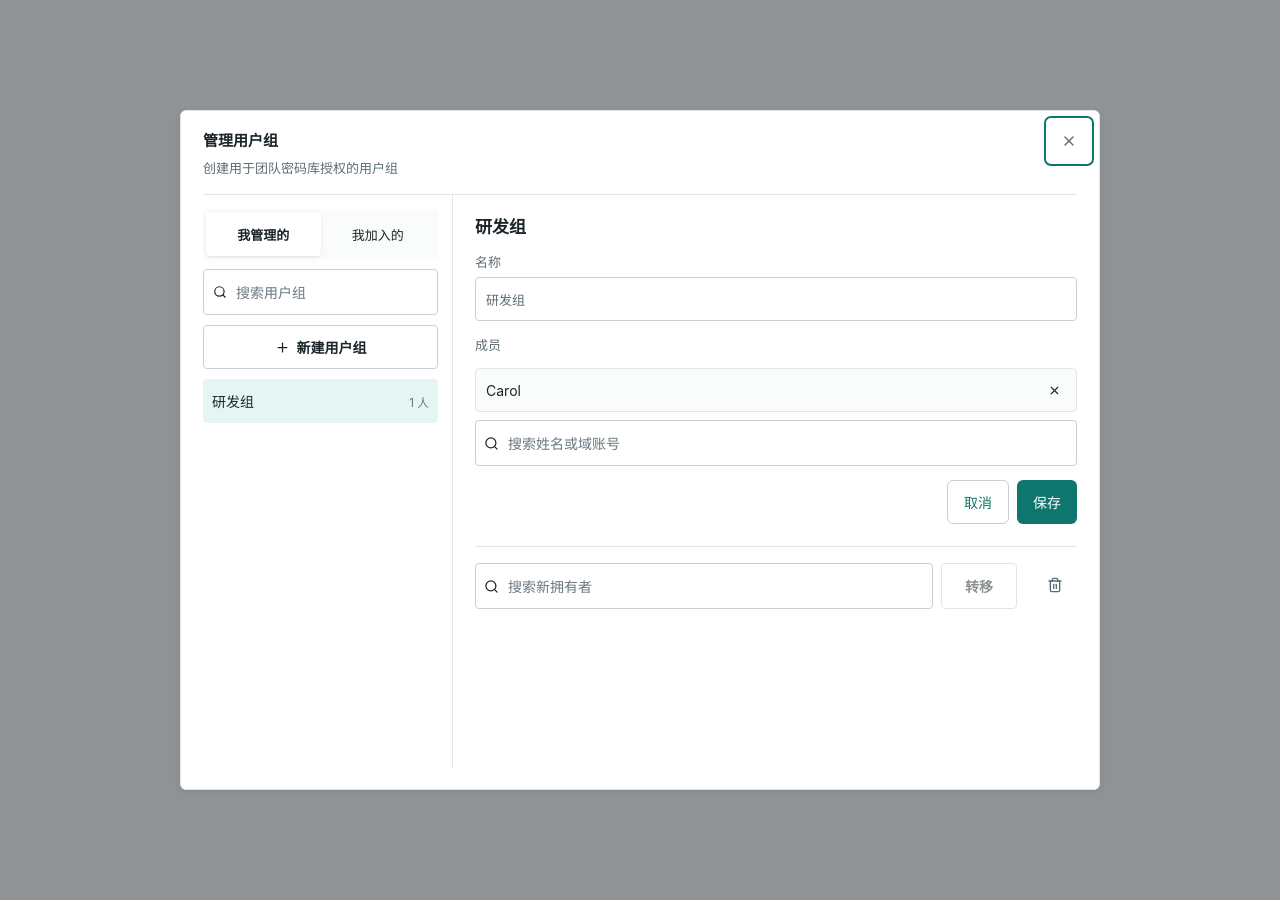
GroupsDialog › restores an edit draft and returns from create to the prior group
Replace the text in the field labelled "名称" with "未保存名称" at (776, 299), box x1=475 y1=277 x2=1077 y2=321
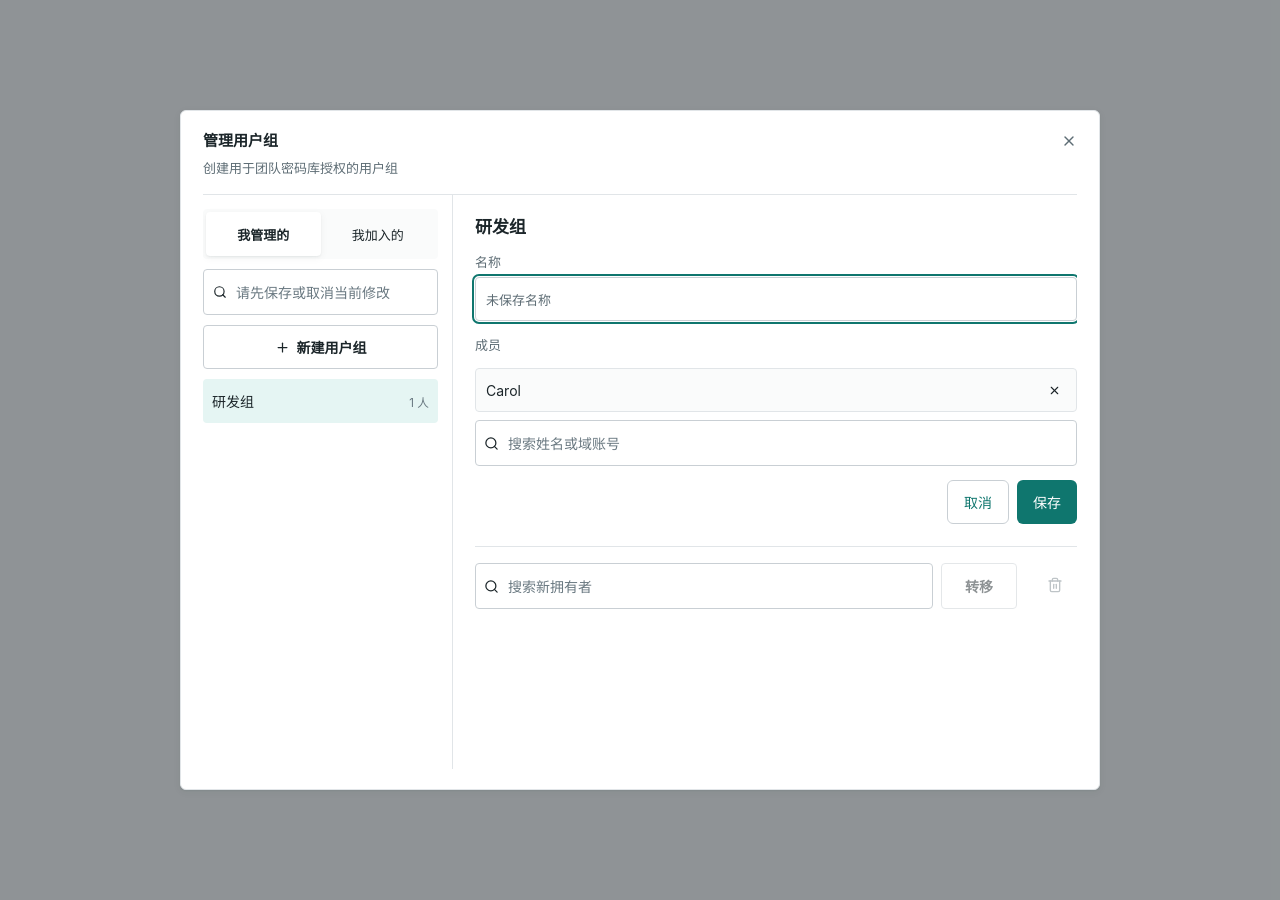
Click the button "取消" at (978, 502), box x1=947 y1=480 x2=1009 y2=524
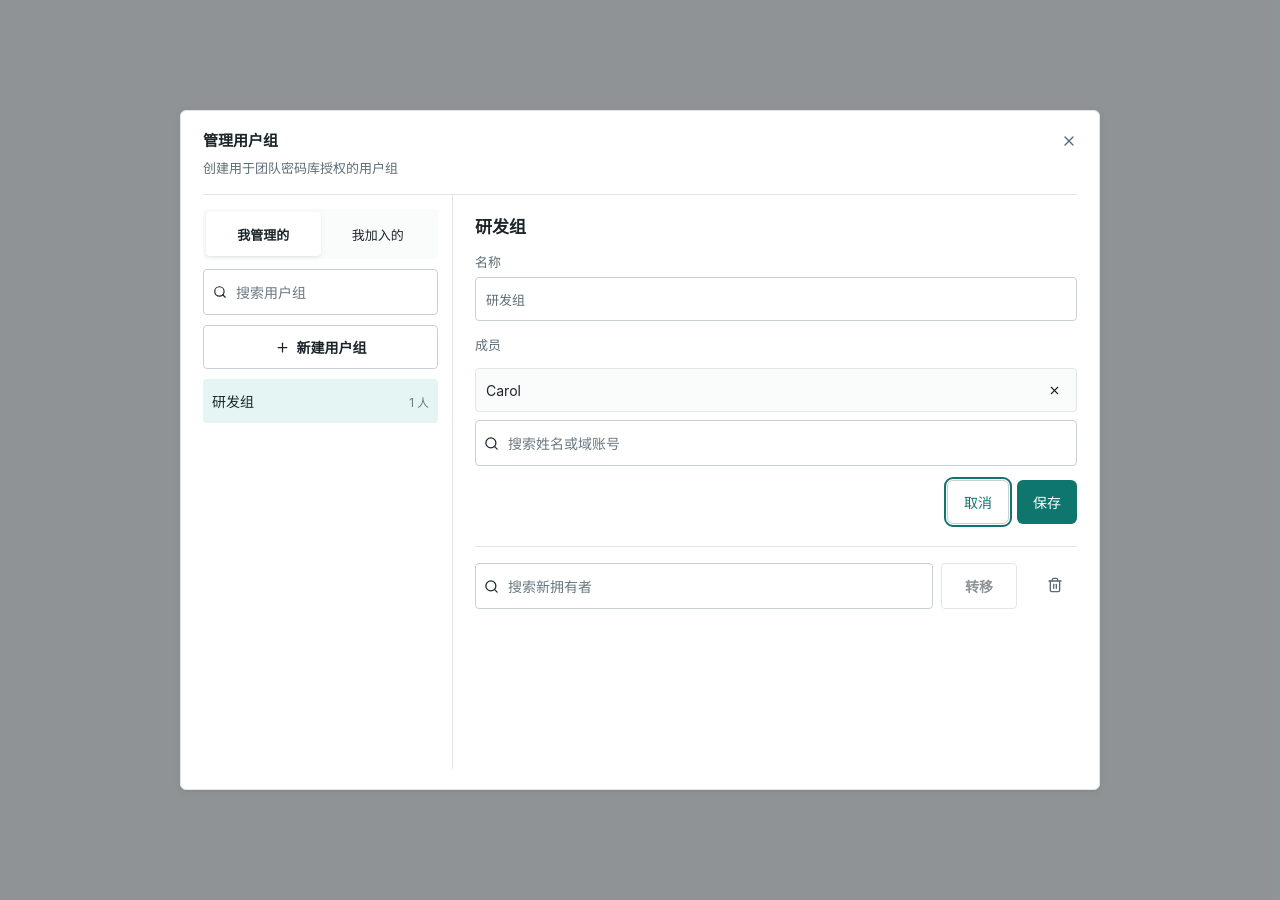
Now the field labelled "名称" holds "研发组", box x1=475 y1=277 x2=1077 y2=321
Click the button "新建用户组" at (320, 347), box x1=203 y1=325 x2=438 y2=369
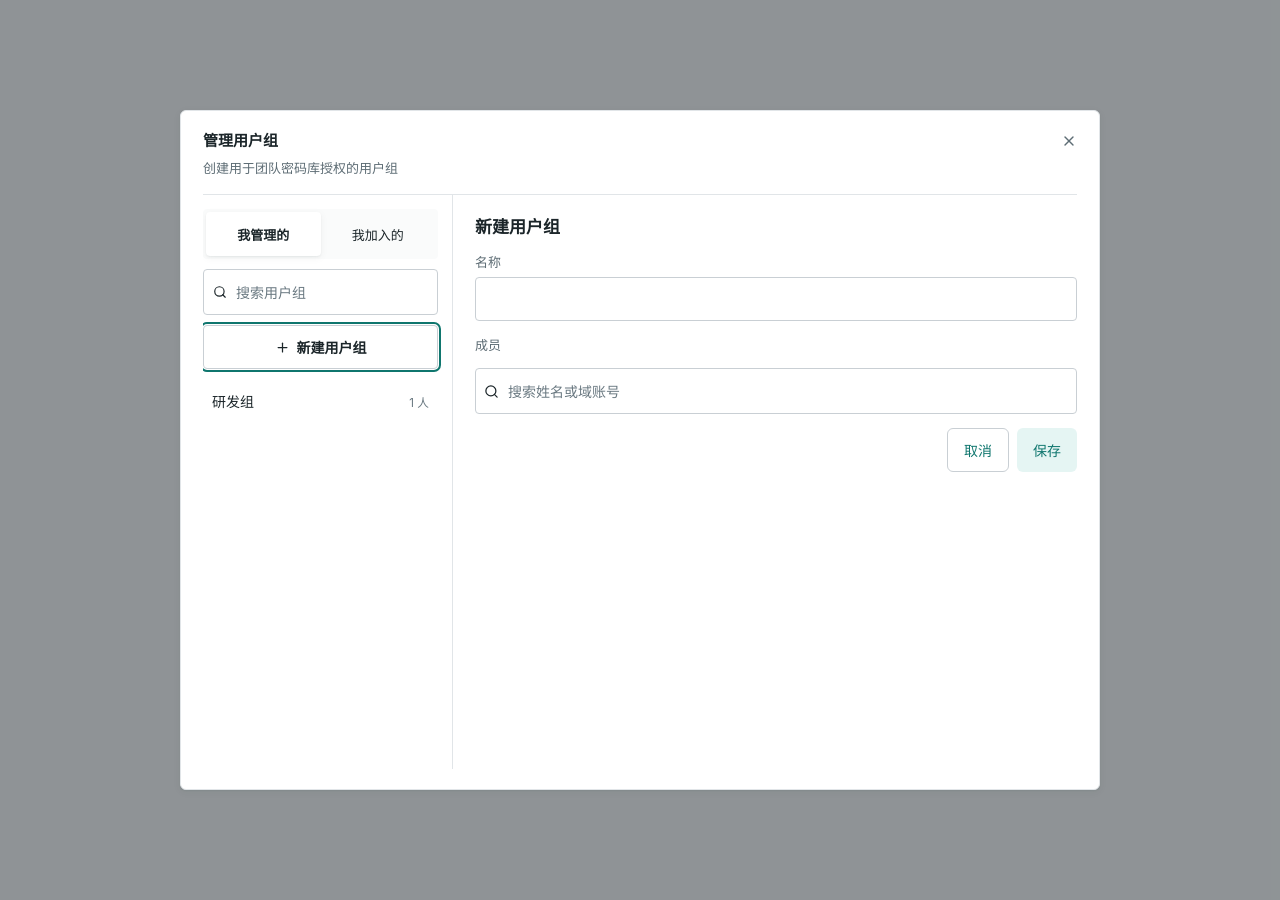
Type "临时用户组" into the field labelled "名称" at (776, 299), box x1=475 y1=277 x2=1077 y2=321
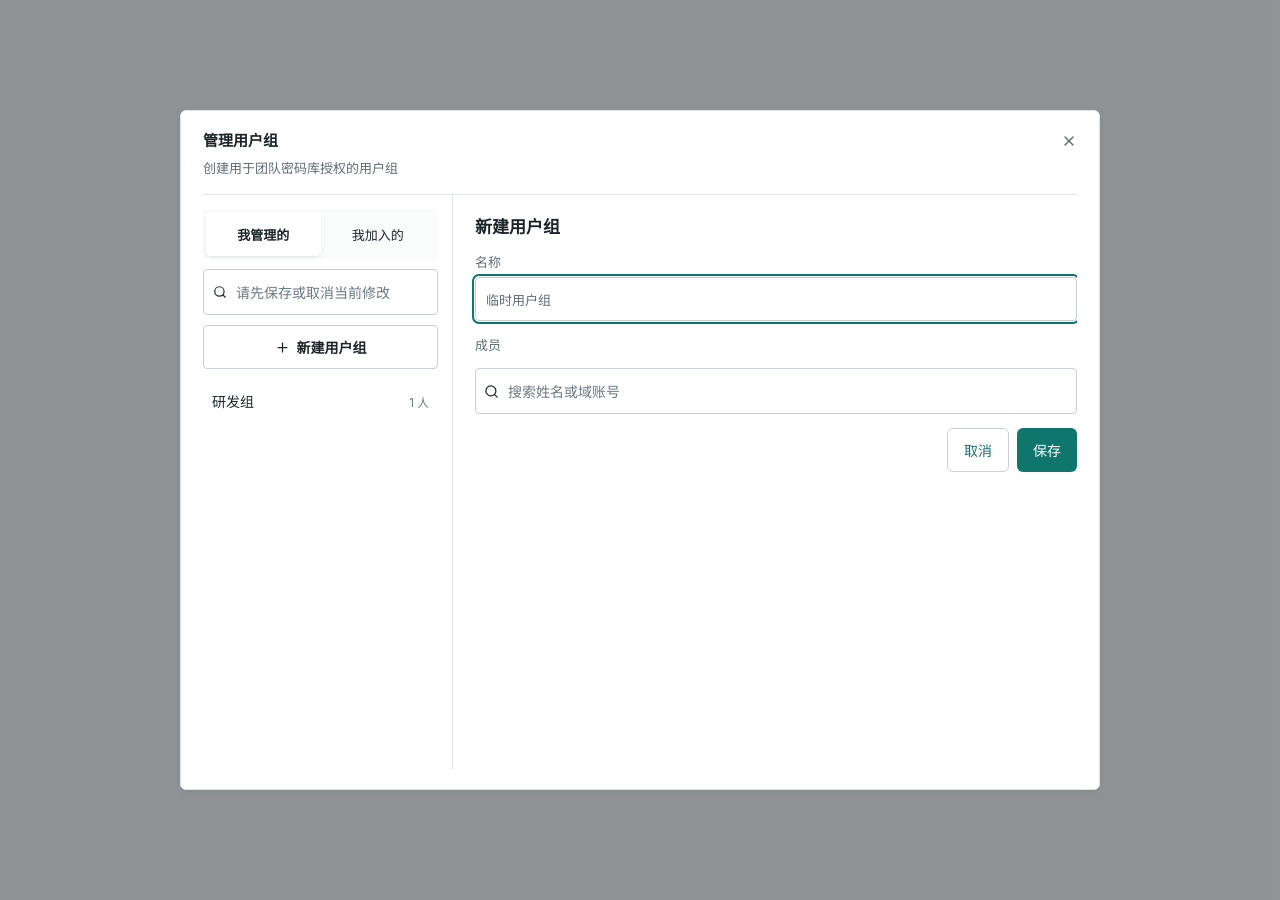
Click the button "取消" at (978, 450), box x1=947 y1=428 x2=1009 y2=472
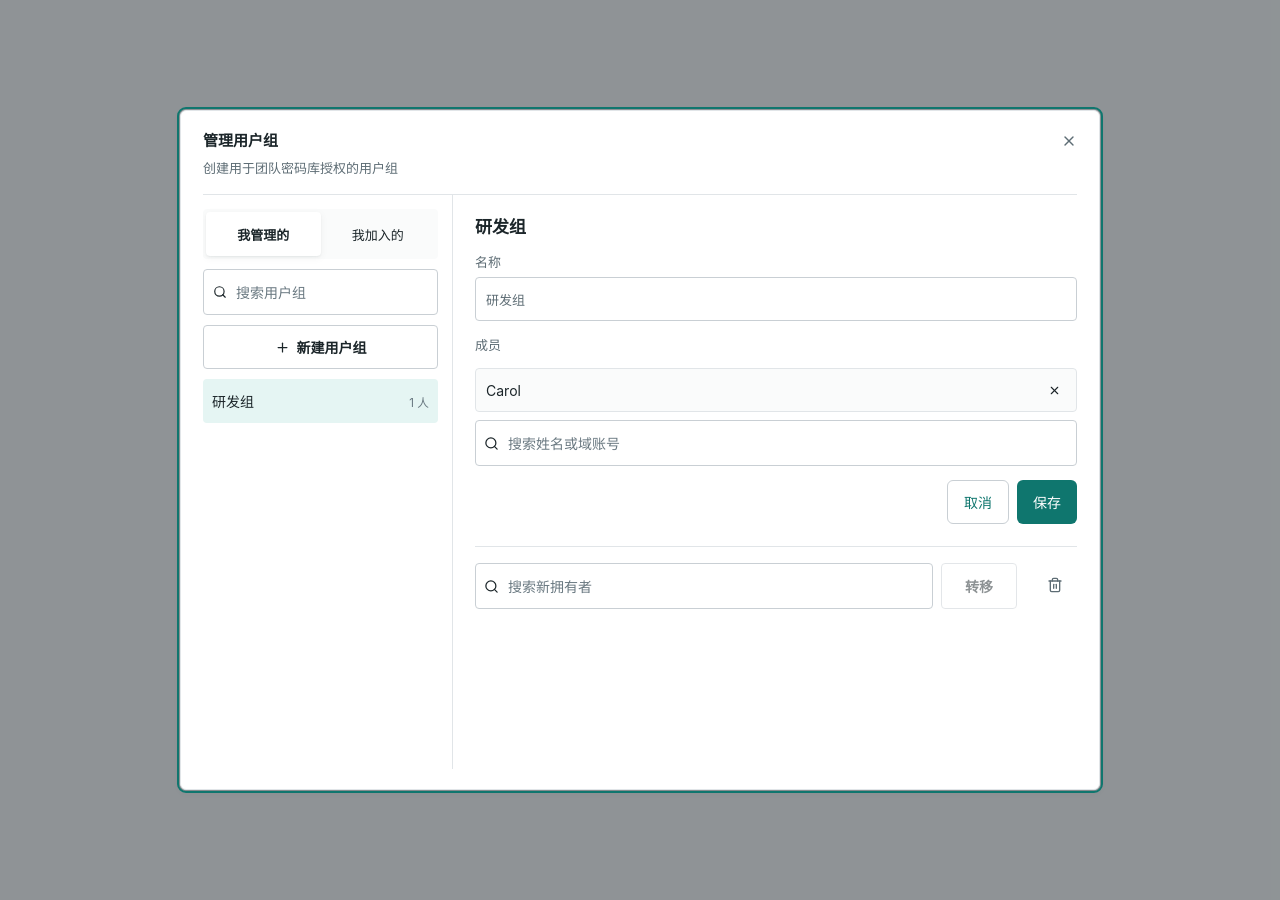
Now the heading "研发组" is shown, box x1=475 y1=213 x2=526 y2=238
